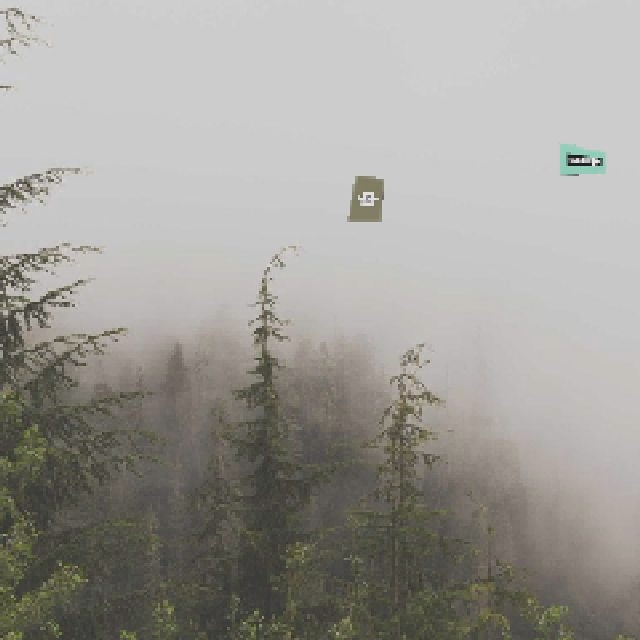DO_NOT_GO_AROUND: (353, 189, 378, 205)
ONE_WAY_ right: (565, 152, 601, 164)
